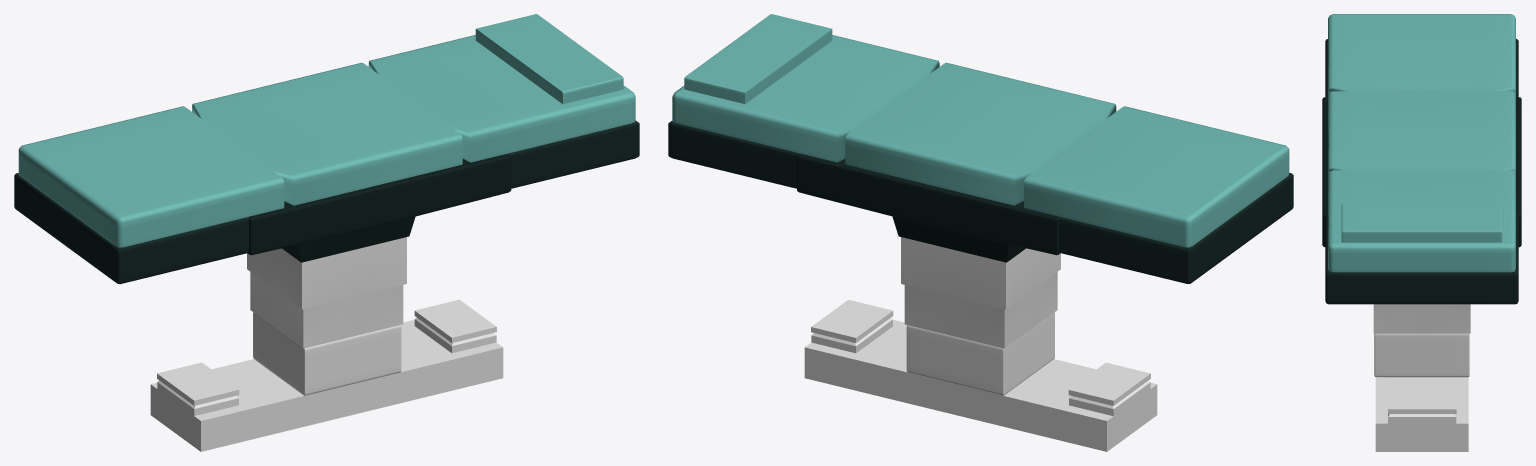
Rendered from Surgery Bed 1.fbx.
3 views of the same model, side by side, from view 1: azimuth 30°, elevation 25°; view 2: azimuth 150°, elevation 25°; view 3: azimuth 270°, elevation 25° (orthographic). The views are drawn at different scales.
Parts seen in each view (by area): view 1: Bed_top, Table_stand, Bed_bottom, Table_drawers, Bed_bottom1; view 2: Bed_top, Table_stand, Bed_bottom, Table_drawers, Bed_bottom1; view 3: Bed_top, Table_stand, Bed_bottom, Bed_bottom1, Table_drawers.
Part boxes in pixels (x1=…): Bed_top: x1=18, y1=35, x2=635, y2=247; Table_stand: x1=150, y1=216, x2=503, y2=451; Bed_bottom: x1=14, y1=120, x2=639, y2=284; Table_drawers: x1=247, y1=154, x2=511, y2=255; Bed_bottom1: x1=475, y1=14, x2=623, y2=104; Bed_top: x1=672, y1=35, x2=1289, y2=247; Table_stand: x1=804, y1=216, x2=1157, y2=451; Bed_bottom: x1=668, y1=121, x2=1293, y2=283; Table_drawers: x1=797, y1=154, x2=1060, y2=255; Bed_bottom1: x1=684, y1=14, x2=832, y2=103; Bed_top: x1=1328, y1=14, x2=1515, y2=272; Table_stand: x1=1373, y1=304, x2=1470, y2=451; Bed_bottom: x1=1325, y1=39, x2=1518, y2=304; Bed_bottom1: x1=1341, y1=204, x2=1502, y2=242; Table_drawers: x1=1322, y1=97, x2=1521, y2=247.
Size of the model in its own units: 11.05 by 5.85 by 3.97.
